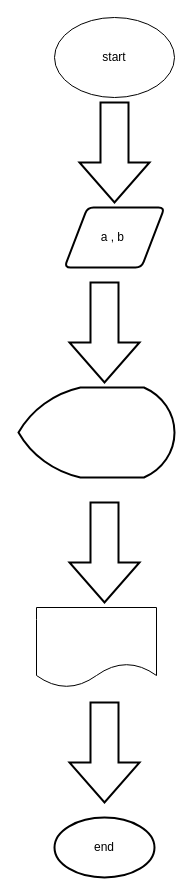
The diagram is 192 pixels wide and 896 high, and some of its shapes have lost their labels. The shapes that lost their labels are listed below. From the top down, each one's box as (x1, y1, x2, y2) in pixels, then its label:
(17, 386, 175, 478): suma = a+b
(36, 606, 156, 688): suma
